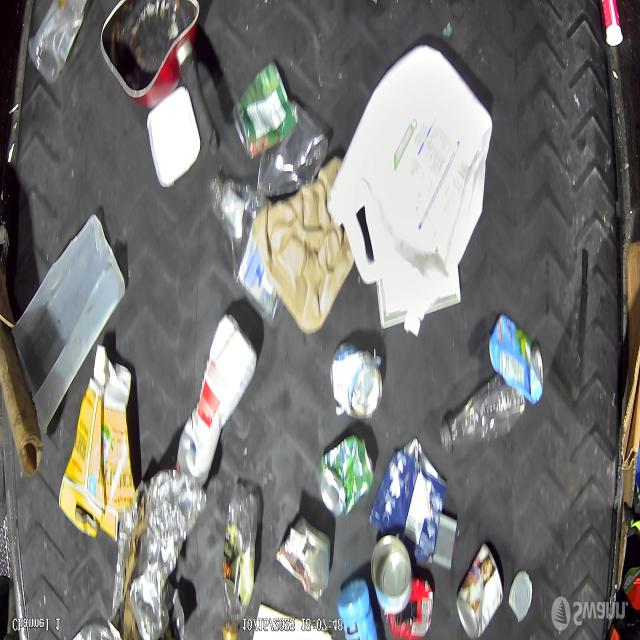can: (231, 60, 297, 155), (320, 433, 375, 518), (458, 546, 502, 639), (279, 526, 327, 599), (373, 547, 411, 612)
milk_jug: (336, 52, 492, 305)
plastic_bottle: (442, 383, 519, 452), (220, 493, 256, 640)
